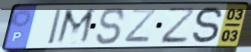I: (47, 8, 65, 46)
M: (54, 8, 98, 47)
S: (191, 5, 225, 45), (95, 6, 127, 46)
Z: (159, 6, 198, 45), (122, 8, 159, 44)
